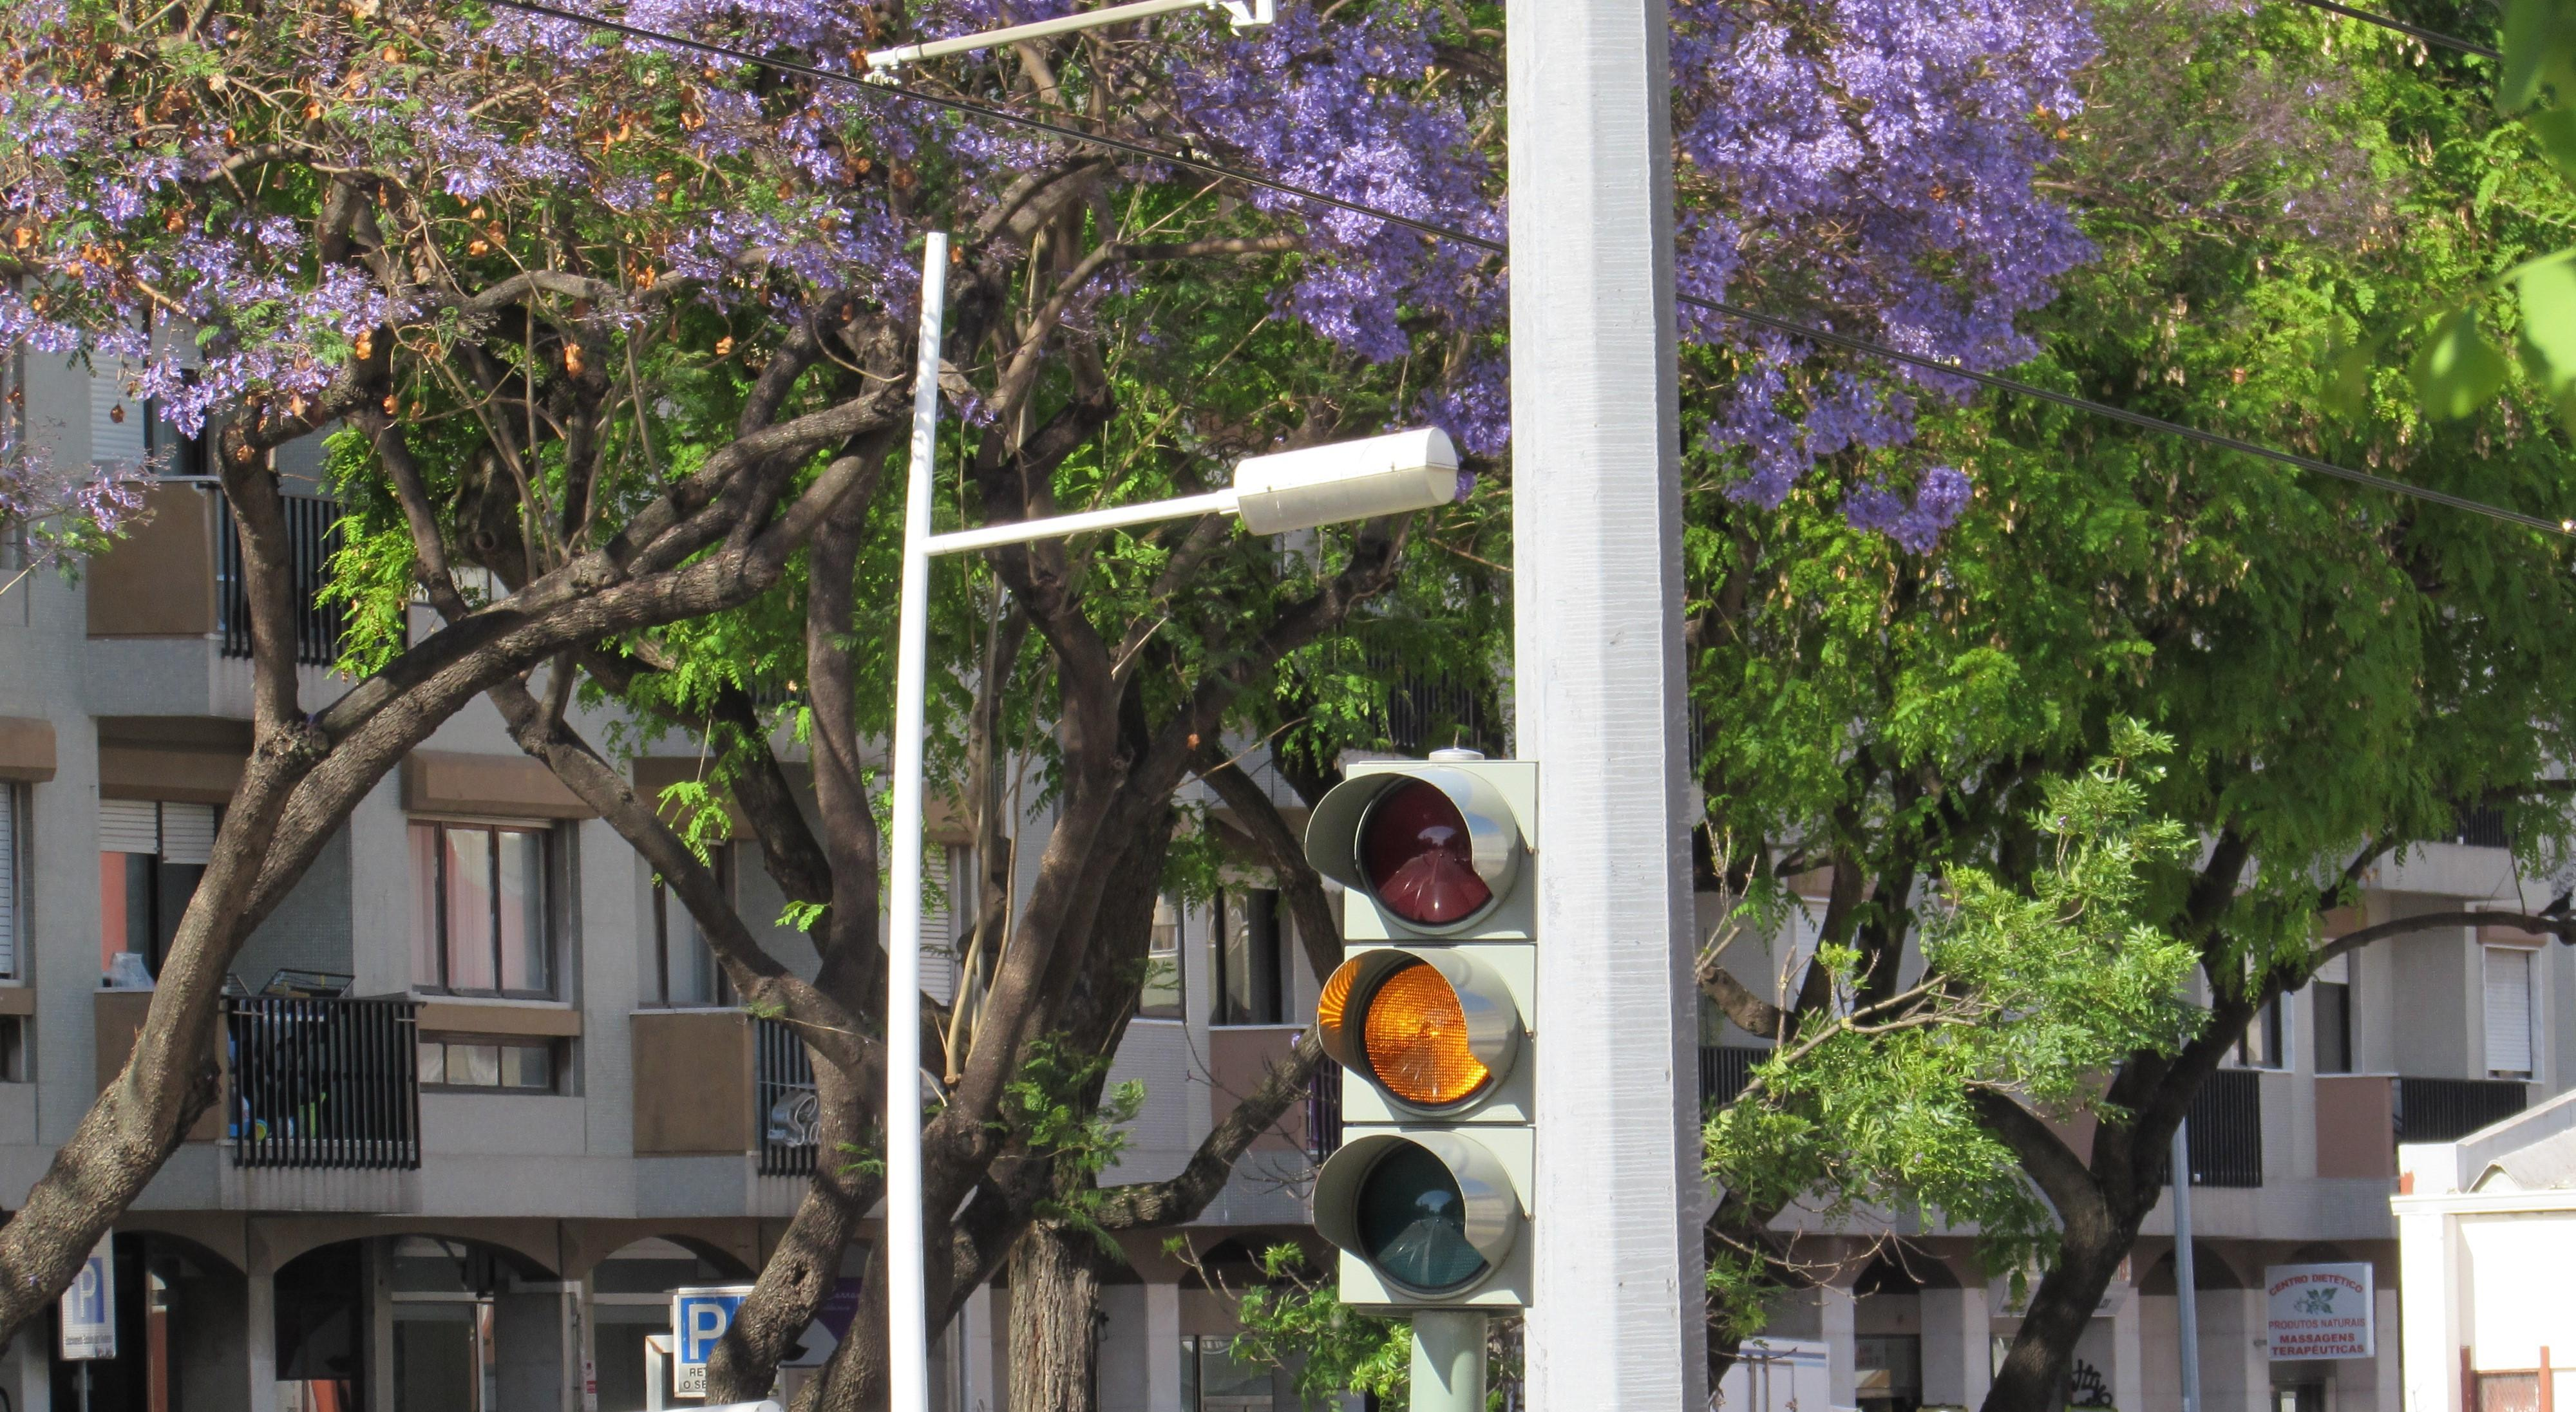yellow_light: (1306, 760, 1538, 1309)
